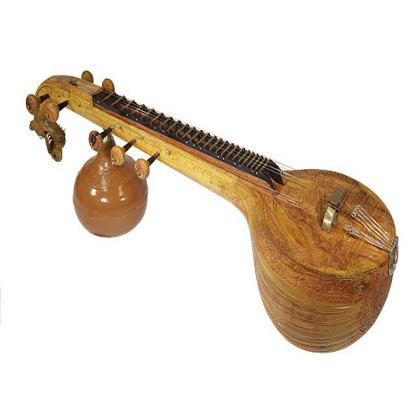Veena: (104, 105, 402, 353)
